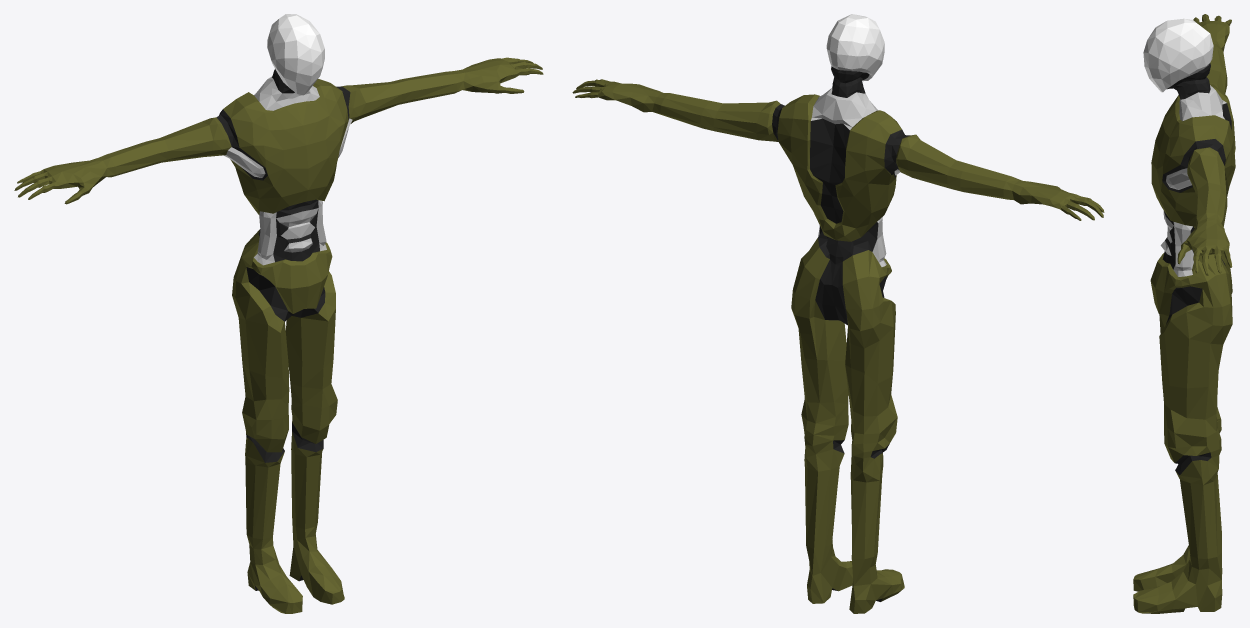
The model's file is Robot.fbx.
The picture shows the model from 3 angles, left to right: view 1: azimuth 30°, elevation 25°; view 2: azimuth 150°, elevation 25°; view 3: azimuth 270°, elevation 25°; orthographic projection.
Parts seen in each view (by area): view 1: Robot; view 2: Robot; view 3: Robot.
Part boxes in pixels (x1=…): Robot: x1=14, y1=14, x2=543, y2=613; Robot: x1=572, y1=14, x2=1104, y2=613; Robot: x1=1133, y1=14, x2=1235, y2=613.
Size of the model in its own units: 2505 by 2615 by 420.
